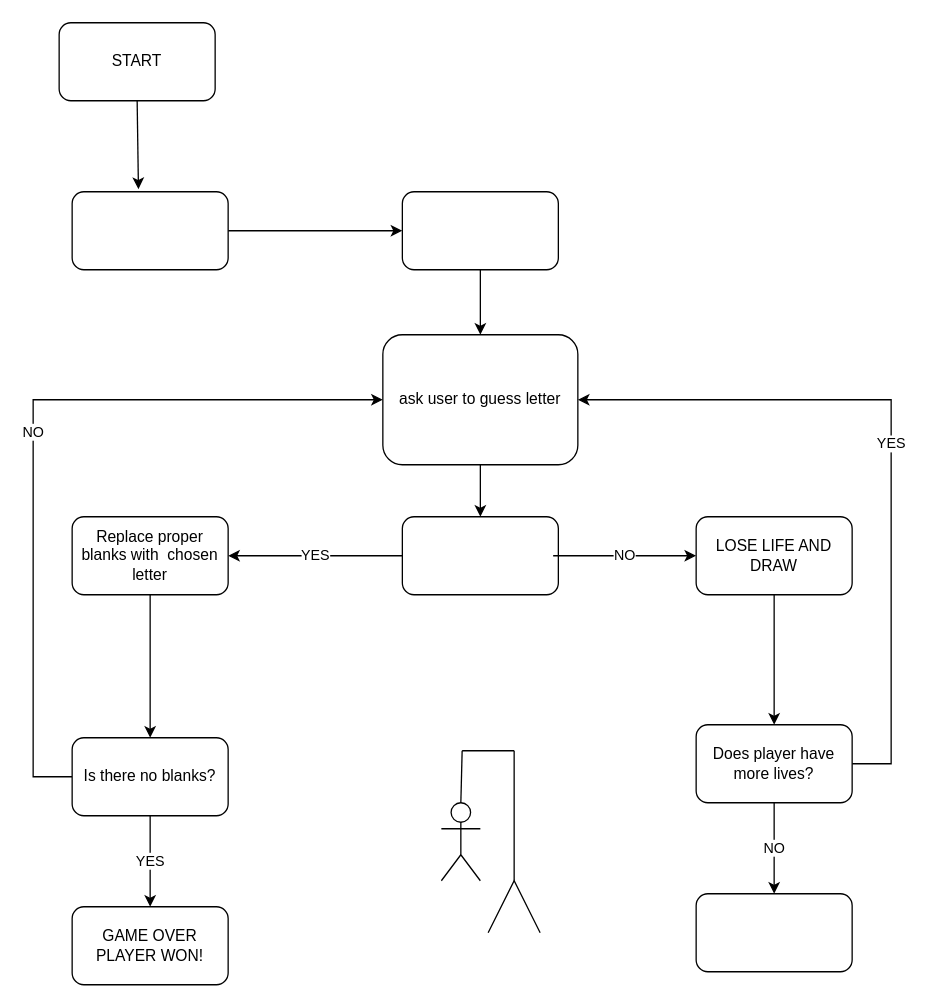
The diagram is 928 pixels wide and 1007 high, and some of its shapes have lost their labels. Each missing label, with the centre of its shape:
GAME OVER PLAYER LOSE: the point at 773,932
Generate blanks: the point at 479,230
Generate Random Word: the point at 149,230
is letter in a word?: the point at 479,555
